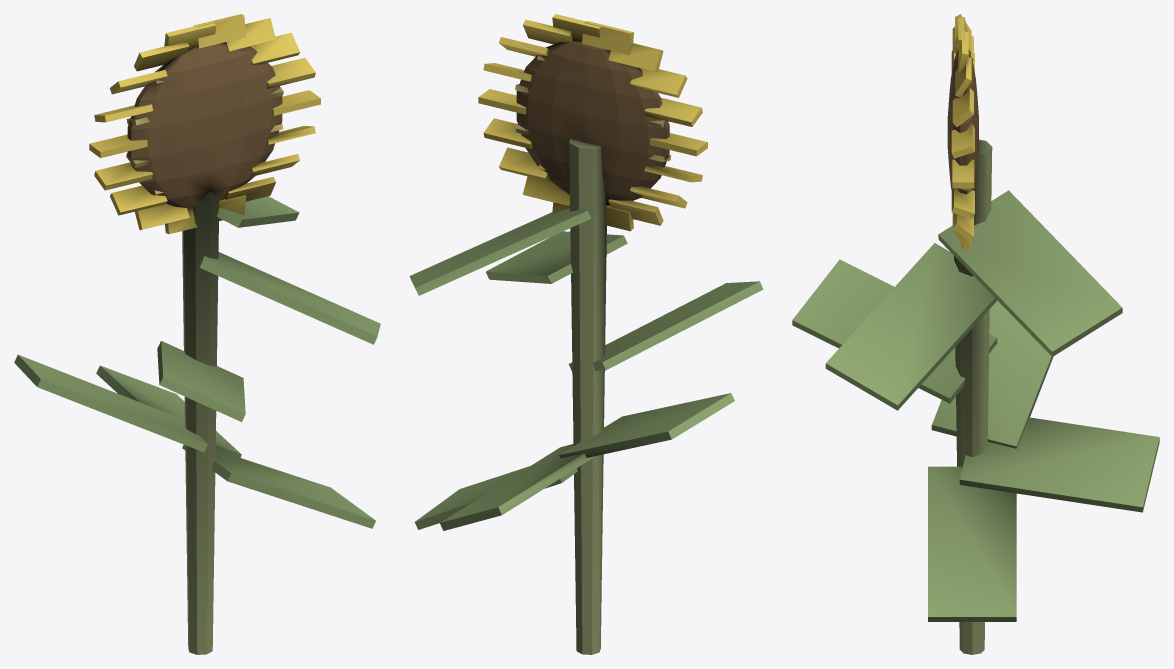
Rendered from crop_sunflower.glb.
3 renders of one model, left to right at view 1: azimuth 30°, elevation 25°; view 2: azimuth 150°, elevation 25°; view 3: azimuth 270°, elevation 25°, orthographic. The views are drawn at different scales.
Visible parts, largest first — view 1: stalk; view 2: stalk; view 3: stalk.
Boxes of the visible parts, x1,y1,x2,y2 form: stalk: (14, 14, 380, 654); stalk: (409, 14, 763, 654); stalk: (792, 14, 1159, 654).
Bounding box in the file's own units: 0.7845 × 1.53 × 0.8277.
